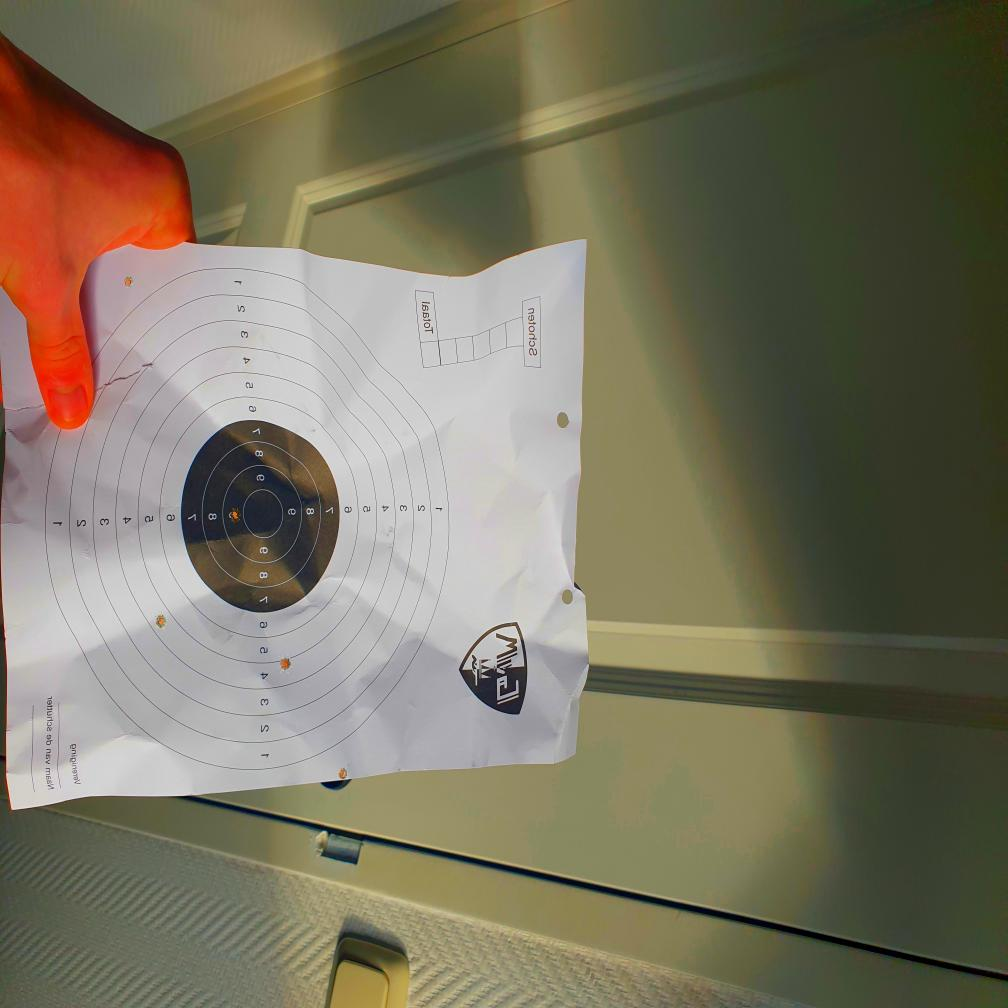0: (124, 274, 134, 289), (337, 768, 348, 780)
4: (152, 611, 168, 632)
5: (279, 654, 293, 673)
9: (230, 506, 242, 522)
Target: (43, 261, 451, 769)
black_contour: (179, 419, 338, 613)
